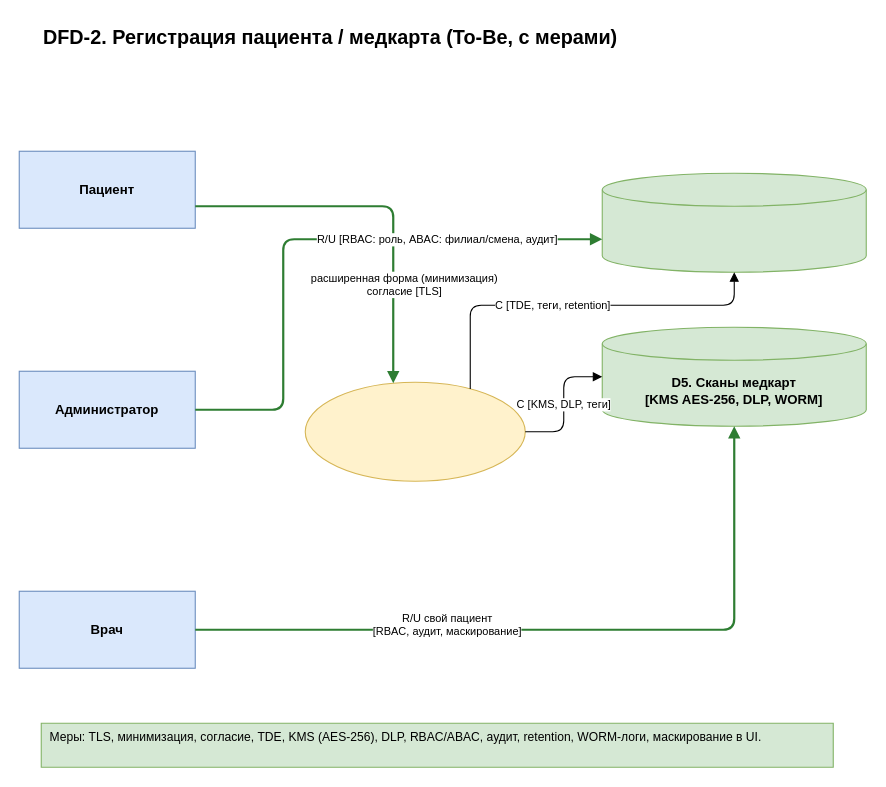
Some shapes in this 886 by 787 pixel diagram are drawn without their labels. Here are the shapes that lost their labels. From the top down, the box of each, then its label:
(601, 172, 866, 272): D4. БД пациентов [TDE, тег class:health, retention]
(304, 381, 525, 481): P2. Регистрация / медкарта [RBAC/ABAC, аудит, DLP]
